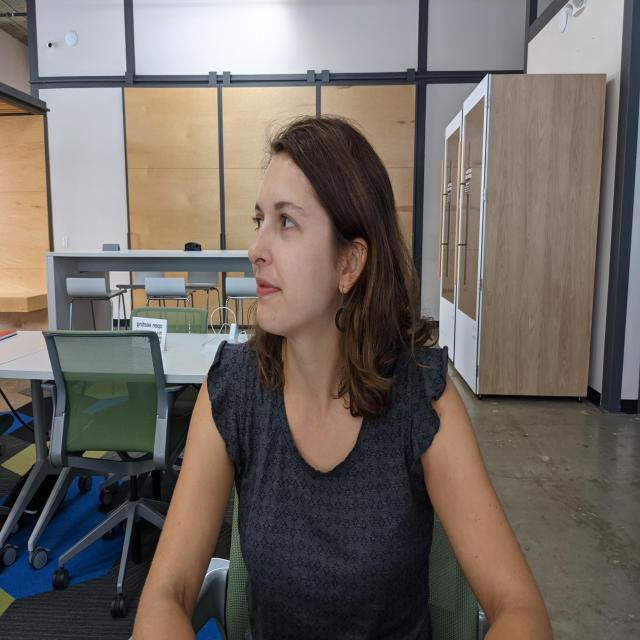face: (250, 160, 352, 338)
